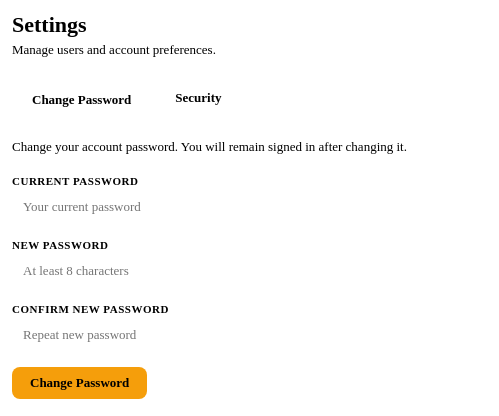
Test: SettingsPage — Security tab (2FA) › shows an Enable button when 2FA is not yet set up
Click the button "Security" at (198, 100), box [155,82,242,117]
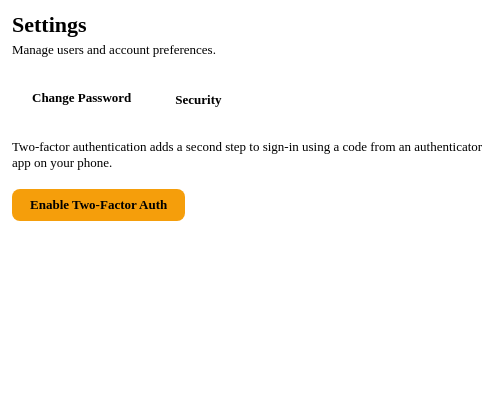
Check: the button "Enable Two-Factor Auth" is shown, box [12,189,185,221]
